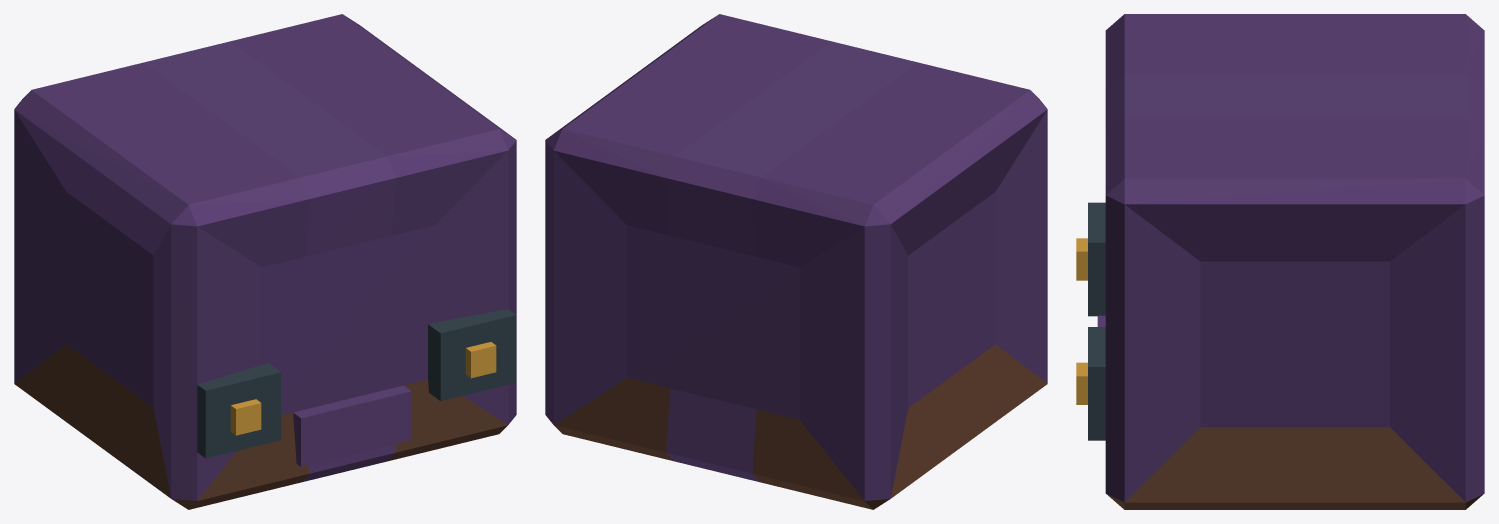
Rendered from small-crate-lilac.glb.
The picture shows the model from 3 angles, left to right: view 1: azimuth 30°, elevation 25°; view 2: azimuth 150°, elevation 25°; view 3: azimuth 270°, elevation 25°; orthographic projection. The views are drawn at different scales.
Parts seen in each view (by area): view 1: small-crate-lilac; view 2: small-crate-lilac; view 3: small-crate-lilac.
Boxes of the visible parts, x1,y1,x2,y2 form: small-crate-lilac: (14, 14, 516, 509); small-crate-lilac: (545, 14, 1047, 509); small-crate-lilac: (1076, 14, 1484, 509).
Bounding box in the file's own units: 0.64 × 0.54 × 0.6033.
